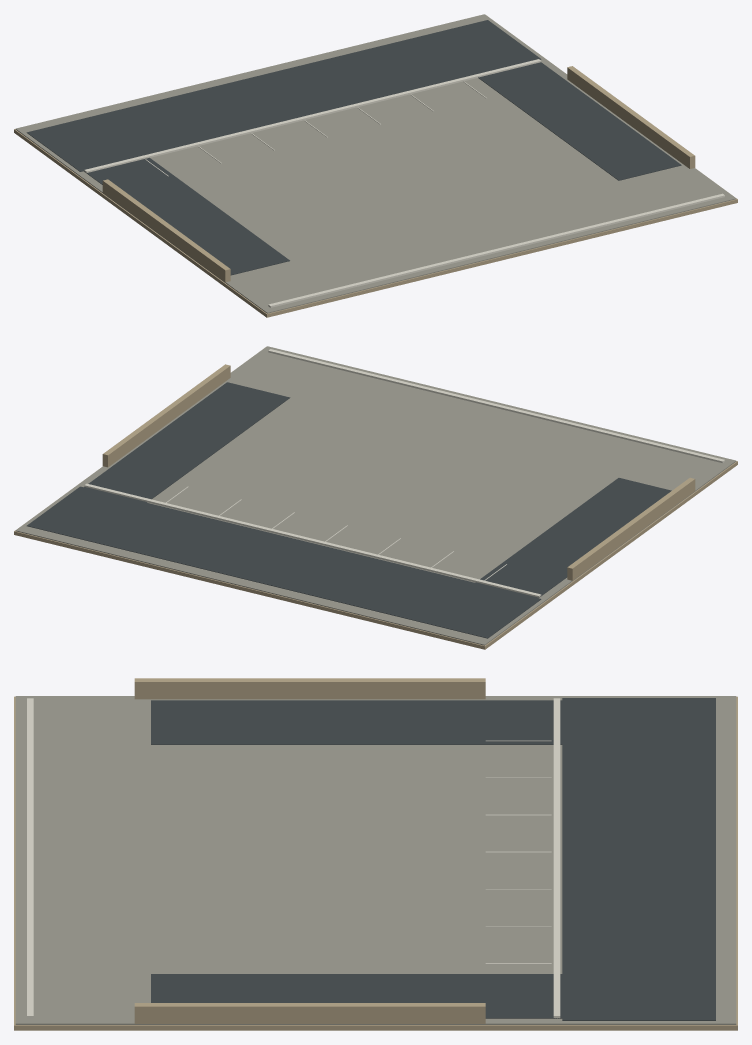
File: KOL_T1_TRUMP__Foundation.fbx
3 views of the same model, one above another, from view 1: azimuth 30°, elevation 25°; view 2: azimuth 150°, elevation 25°; view 3: azimuth 270°, elevation 25° (orthographic). The views are drawn at different scales.
Visible parts, largest first — view 1: KOL_T1_TRUMP__Foundation__KOL_T1_Paving, KOL_T1_TRUMP__Foundation__KOL_T1_Asphalt, KOL_T1_TRUMP__Foundation__KOL_T1_Stone, KOL_T1_TRUMP__Foundation__KOL_T1_Pearl; view 2: KOL_T1_TRUMP__Foundation__KOL_T1_Paving, KOL_T1_TRUMP__Foundation__KOL_T1_Asphalt, KOL_T1_TRUMP__Foundation__KOL_T1_Stone, KOL_T1_TRUMP__Foundation__KOL_T1_Pearl; view 3: KOL_T1_TRUMP__Foundation__KOL_T1_Paving, KOL_T1_TRUMP__Foundation__KOL_T1_Asphalt, KOL_T1_TRUMP__Foundation__KOL_T1_Stone, KOL_T1_TRUMP__Foundation__KOL_T1_Pearl.
Part boxes in pixels (left/top/right/bottom): KOL_T1_TRUMP__Foundation__KOL_T1_Paving: left=15, top=14, right=736, bottom=313; KOL_T1_TRUMP__Foundation__KOL_T1_Asphalt: left=26, top=20, right=681, bottom=275; KOL_T1_TRUMP__Foundation__KOL_T1_Stone: left=14, top=39, right=737, bottom=317; KOL_T1_TRUMP__Foundation__KOL_T1_Pearl: left=84, top=59, right=724, bottom=307; KOL_T1_TRUMP__Foundation__KOL_T1_Paving: left=15, top=346, right=736, bottom=645; KOL_T1_TRUMP__Foundation__KOL_T1_Asphalt: left=27, top=382, right=671, bottom=638; KOL_T1_TRUMP__Foundation__KOL_T1_Stone: left=14, top=364, right=737, bottom=649; KOL_T1_TRUMP__Foundation__KOL_T1_Pearl: left=84, top=349, right=724, bottom=597; KOL_T1_TRUMP__Foundation__KOL_T1_Paving: left=15, top=696, right=736, bottom=1024; KOL_T1_TRUMP__Foundation__KOL_T1_Asphalt: left=151, top=698, right=715, bottom=1020; KOL_T1_TRUMP__Foundation__KOL_T1_Stone: left=14, top=678, right=737, bottom=1030; KOL_T1_TRUMP__Foundation__KOL_T1_Pearl: left=27, top=698, right=560, bottom=1018.
Bounding box in the file's own units: 142 × 4.75 × 132.
